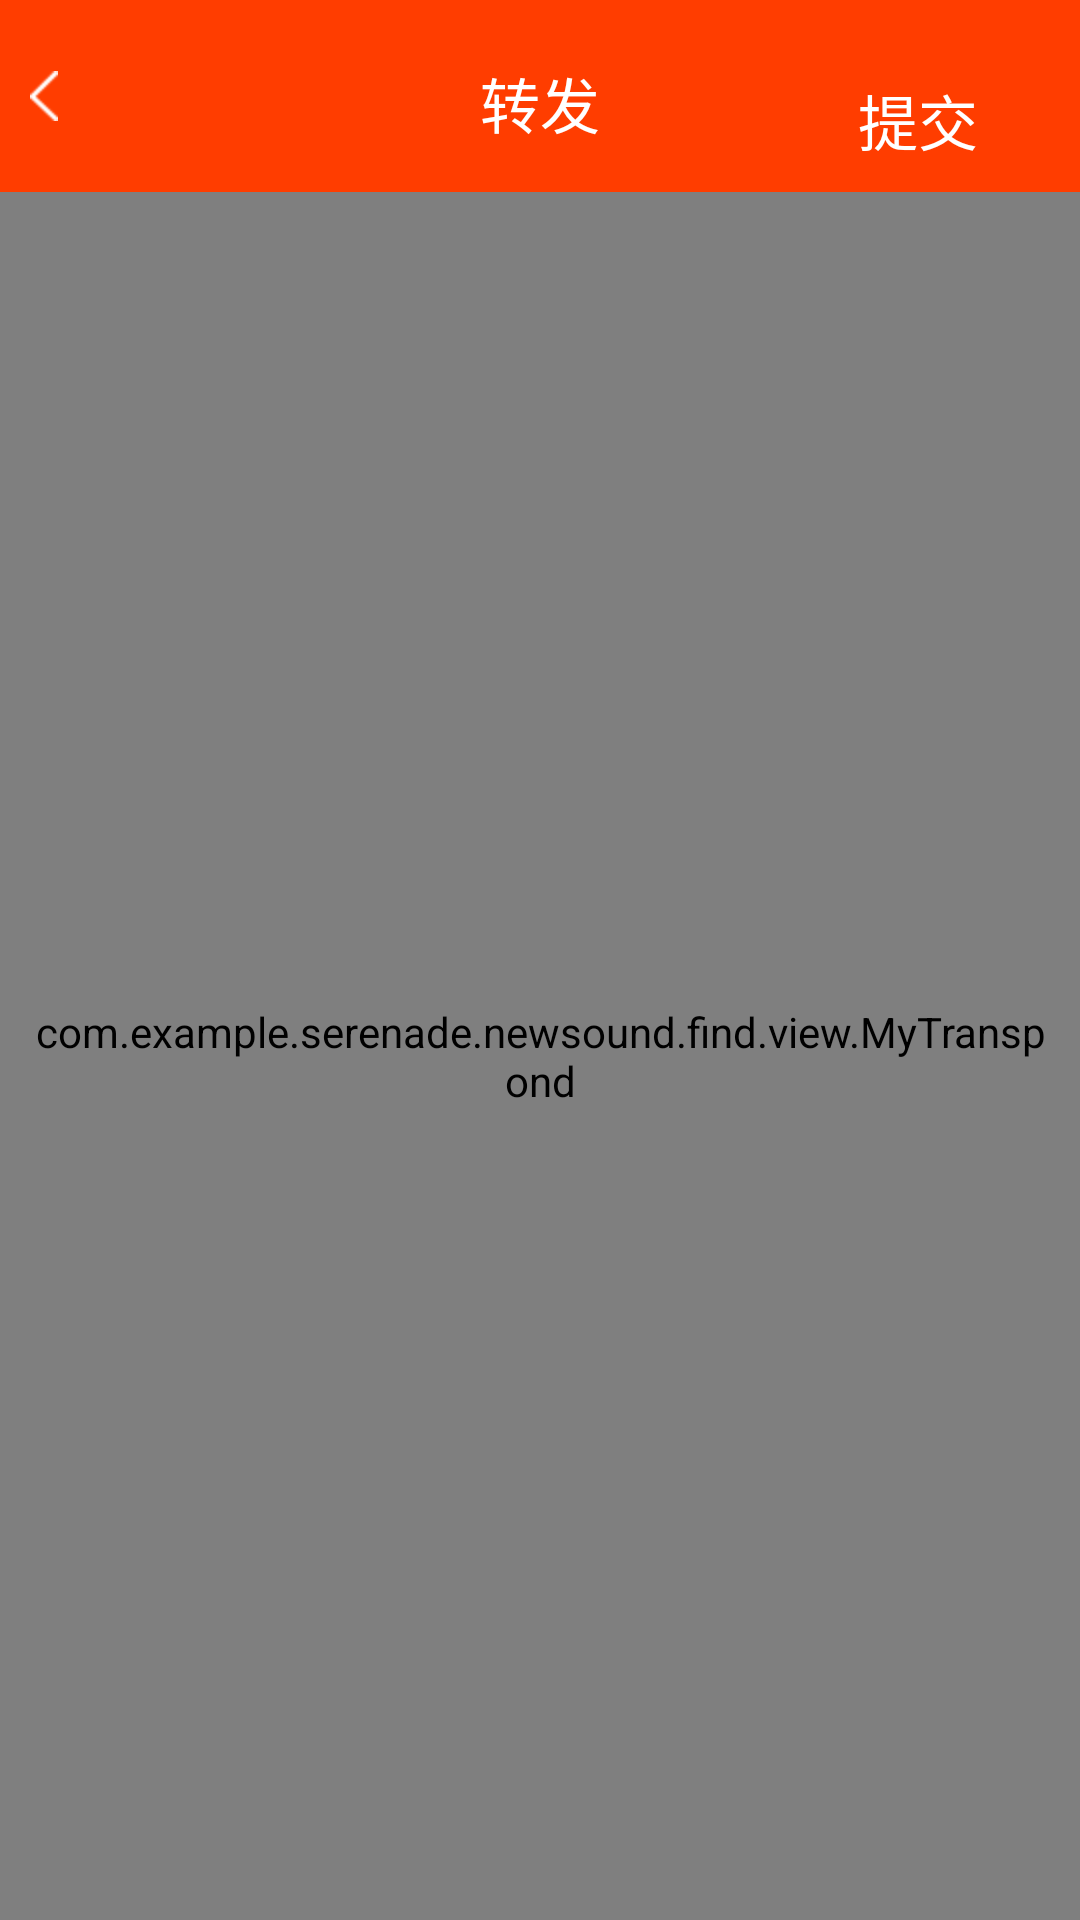

Icons on this 1080×1920 Android screen, each with the point to tap as (x,y):
back: (44,96)
